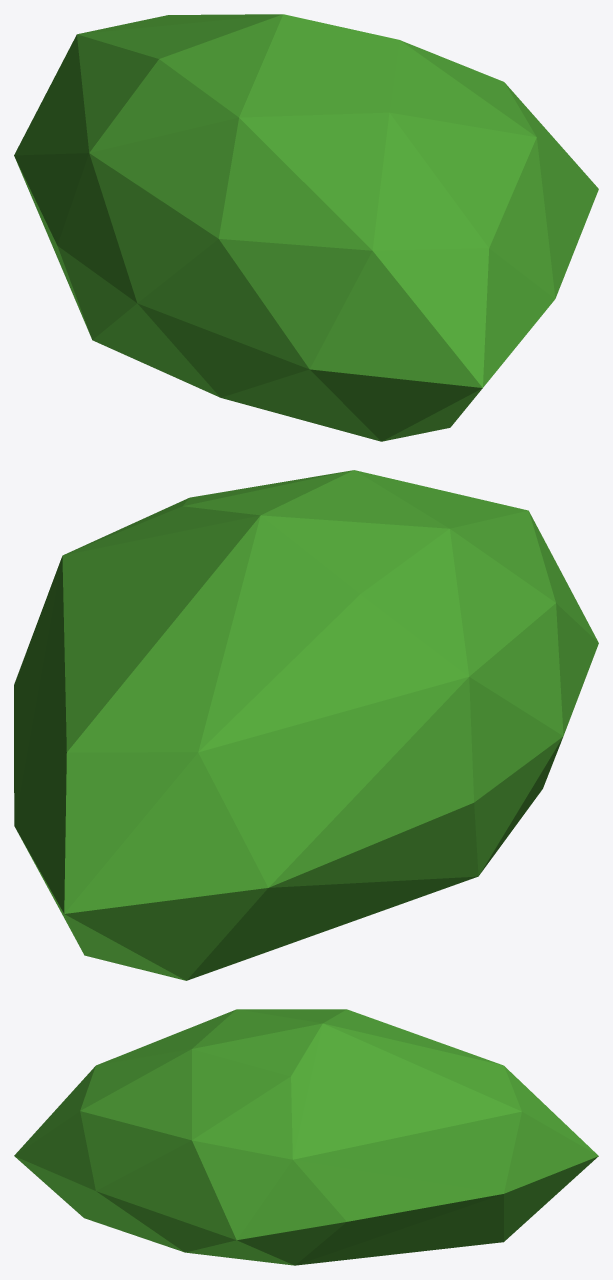
Rendered from Arbusto_3.fbx.
3 views of the same model, one above another, from view 1: azimuth 30°, elevation 25°; view 2: azimuth 150°, elevation 25°; view 3: azimuth 270°, elevation 25° (orthographic). The views are drawn at different scales.
Parts seen in each view (by area): view 1: Arbusto_3; view 2: Arbusto_3; view 3: Arbusto_3.
Boxes of the visible parts, box(x1,y1,x2,y2) form: Arbusto_3: box(14, 14, 598, 441); Arbusto_3: box(14, 470, 598, 980); Arbusto_3: box(14, 1009, 598, 1265).
Size of the model in its own units: 547 by 370 by 870.
